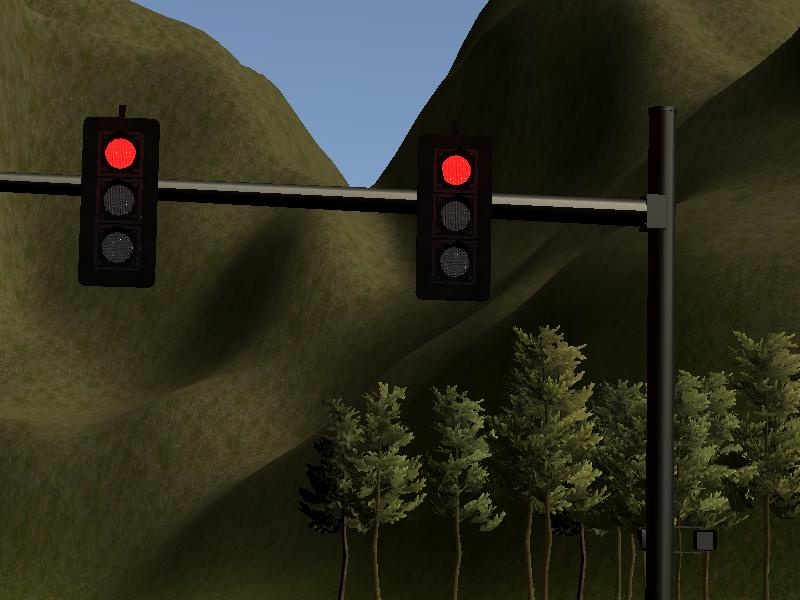red: (73, 115, 162, 292), (414, 130, 495, 304)
